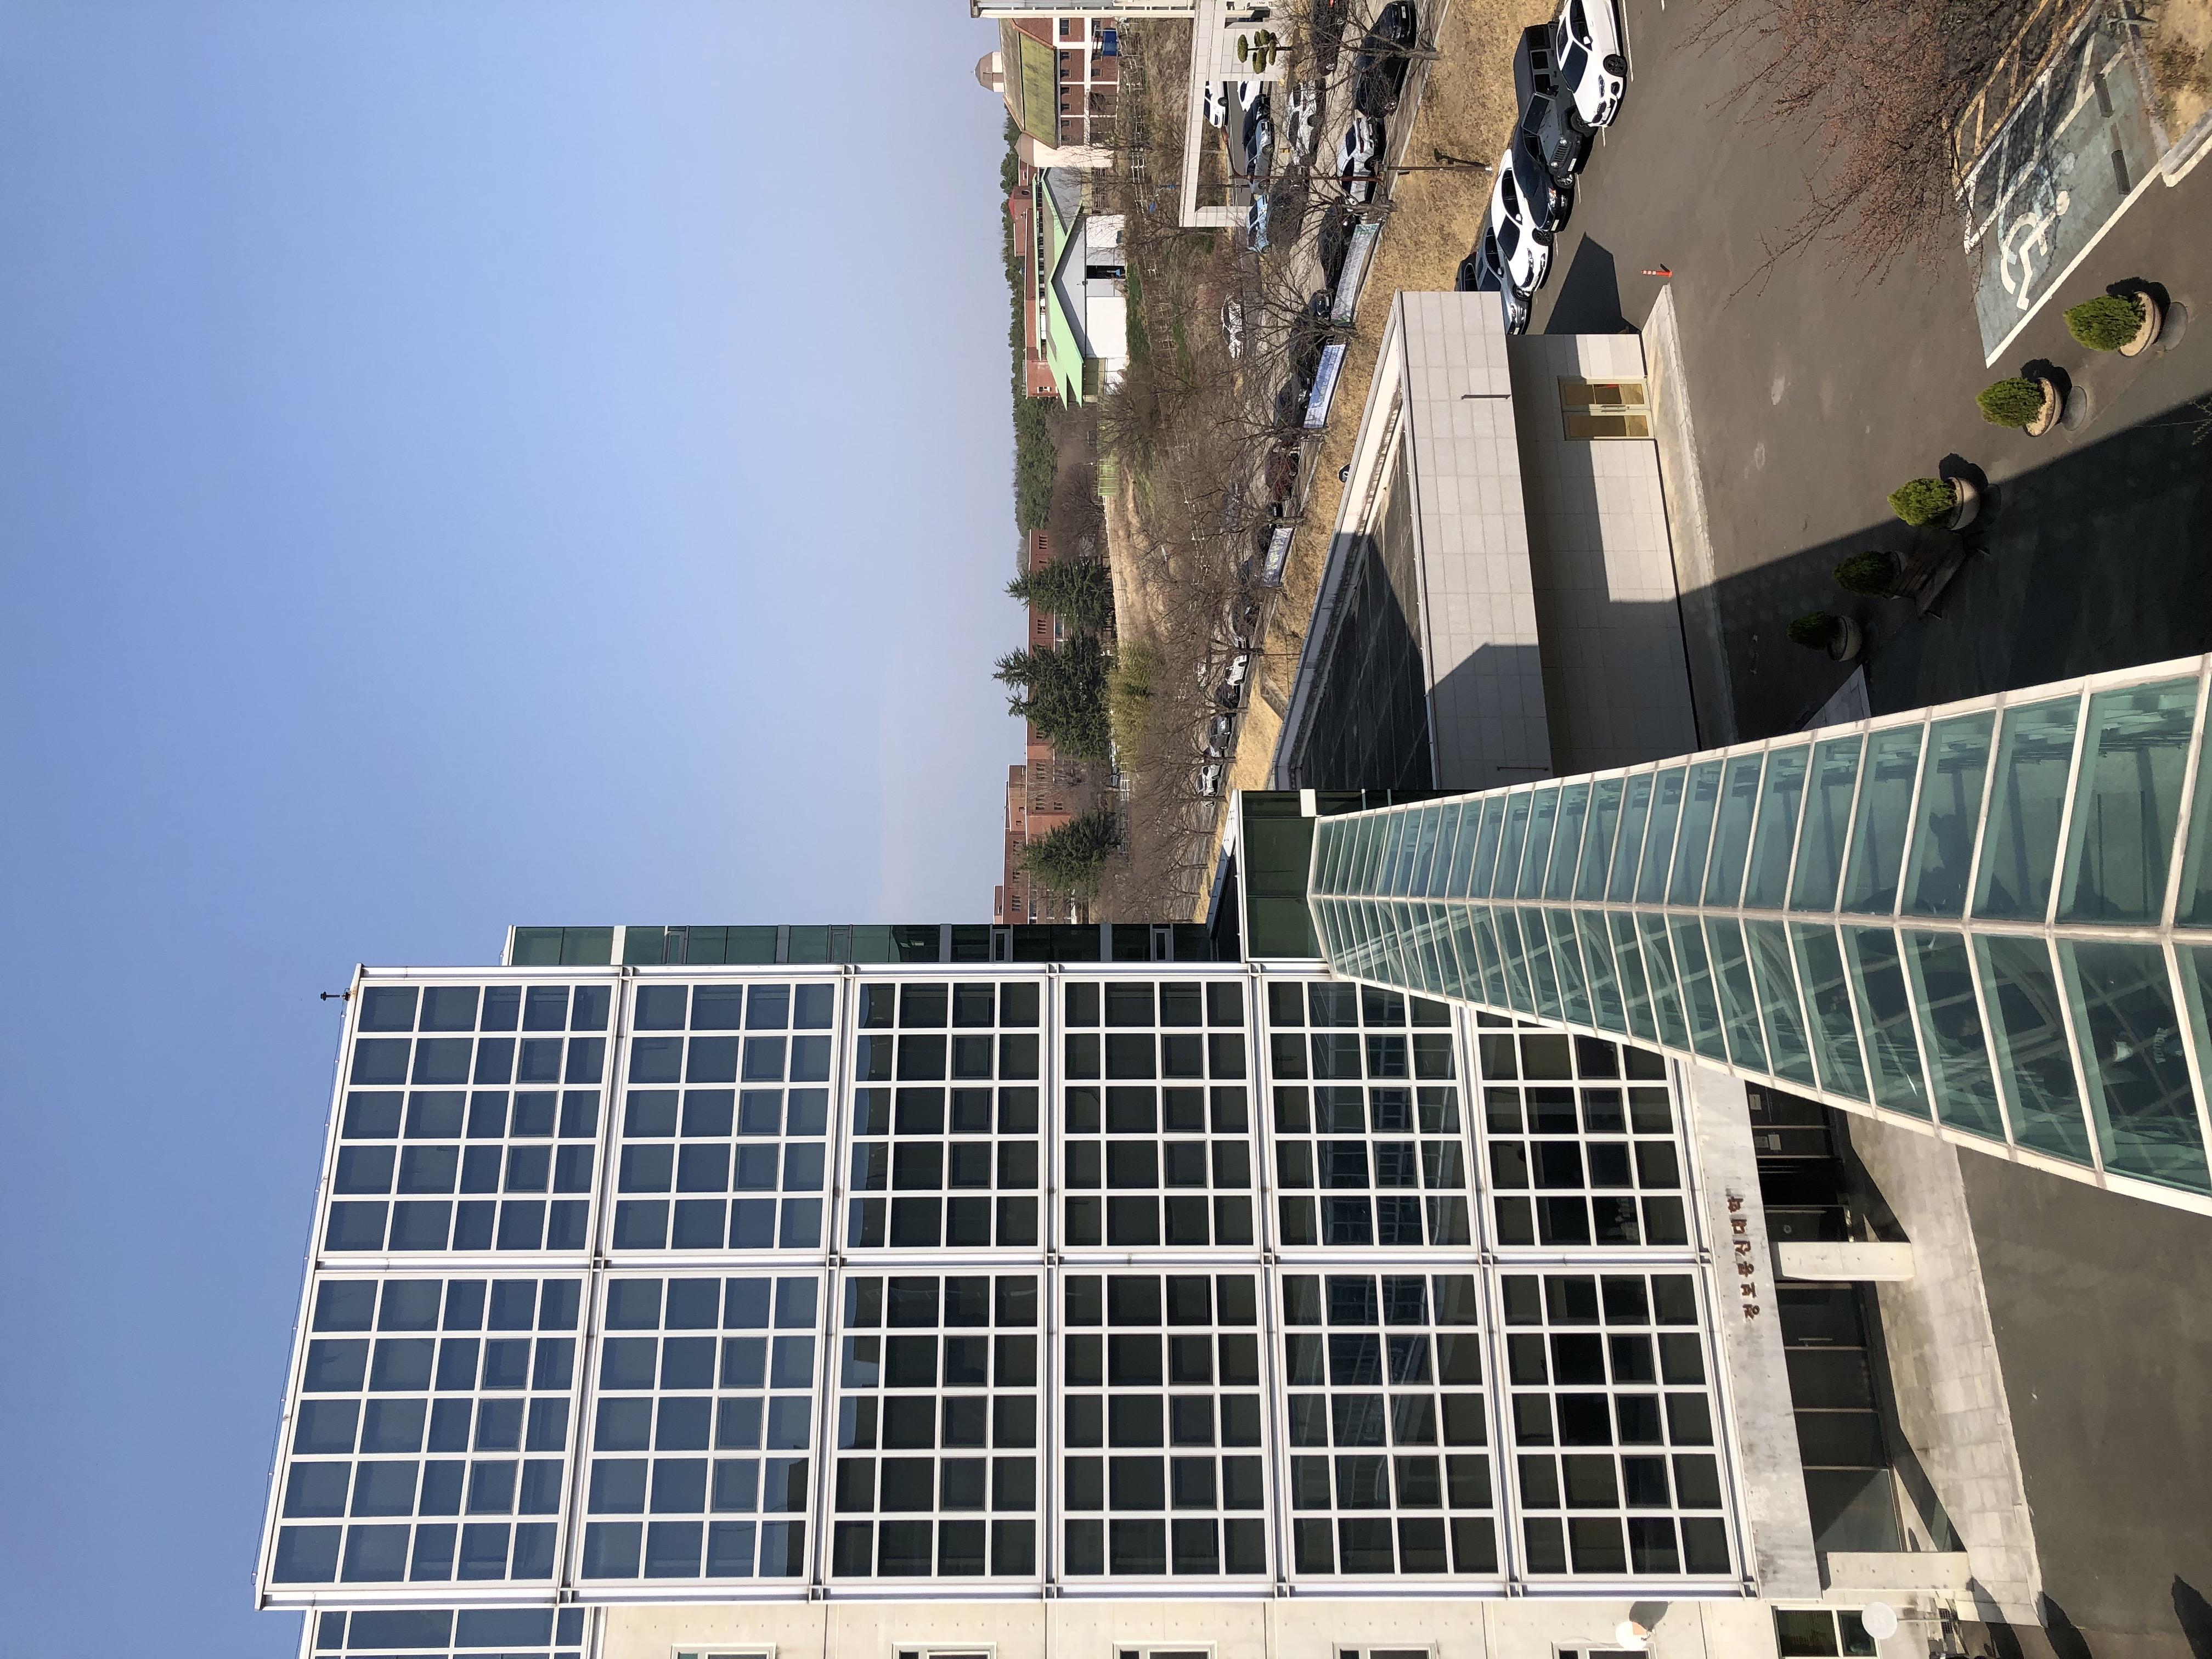building: (0, 169, 1017, 1568)
